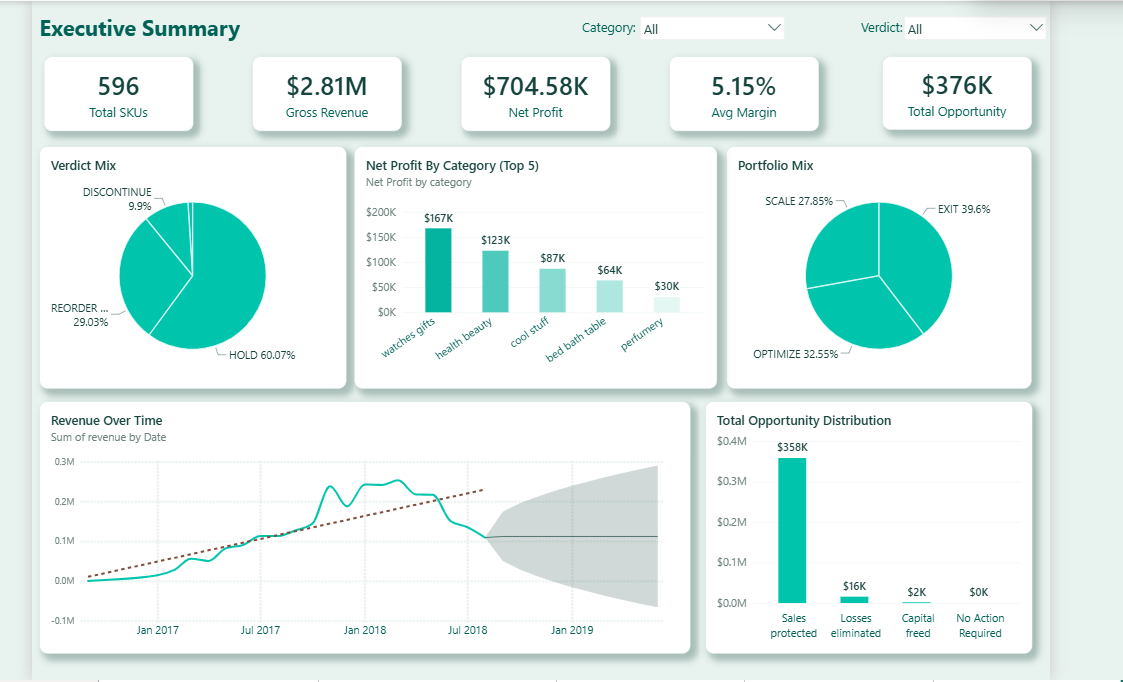

This screenshot's page, from the dashboard's own definition file:
{"tool":"powerbi","page":{"name":"Executive Summary","canvas":[1500,1000],"ordinal":0},"visuals":[{"type":"shape","box":[12,0,425.9,78],"z":0},{"type":"card","fields":{"Values":["Count(dim_product.product_id)"]},"box":[18.6,81,220,110],"z":1000},{"type":"card","fields":{"Values":["Measure.Gross Revenue"]},"box":[325.4,81,220,110],"z":2000},{"type":"card","fields":{"Values":["Measure.Net Profit"]},"box":[632.3,81,220,110],"z":3000},{"type":"card","fields":{"Values":["Measure.Avg Margin"]},"box":[939.1,81,220,110],"z":4000},{"type":"pieChart","title":"Verdict Mix","fields":{"Category":["decision_input.verdict"],"Y":["CountNonNull(decision_input.product_id)"]},"box":[10.3,213.3,451.8,356.5],"z":5000},{"type":"pieChart","title":"Portfolio Mix","fields":{"Y":["CountNonNull(decision_input.product_id)"],"Category":["decision_input.decision"]},"box":[1022.3,213.3,449.6,356.5],"z":6000},{"type":"columnChart","title":"Total Opportunity Distribution","fields":{"Category":["decision_input.Impact Type"],"Y":["Sum(decision_input.Impact $)"]},"box":[991.9,589.9,481.6,371.1],"z":7000},{"type":"card","fields":{"Values":["Sum(decision_input.Impact $)"]},"box":[1251.9,81,220,108.2],"z":8000},{"type":"lineChart","title":"Revenue Over Time","fields":{"Category":["dim_date.Date"],"Y":["Sum(monthly_sku_performance.revenue)"]},"box":[11,589.9,958.8,371.1],"z":9000},{"type":"columnChart","title":"Net Profit By Category (Top 5)","fields":{"Y":["Measure.Net Profit"],"Category":["dim_category.category"]},"box":[475.3,213.3,533.7,356.5],"z":10000},{"type":"slicer","fields":{"Values":["dim_category.category"]},"box":[890.3,17.7,223.1,77.3],"z":11000},{"type":"slicer","fields":{"Values":["decision_input.verdict"]},"box":[1279.6,18,219.9,78],"z":12000},{"type":"shape","box":[749.6,9.4,140,60],"z":13000},{"type":"shape","box":[1141.4,9.4,140,60],"z":14000}]}

Visuals, with their boxes on the page's 1500x1000 design canvas (x1, y1, x2, y2). These are canvas units, not pixel positions in the 1123x682 screenshot, which may show the page scaled, cropped or inside an application window:
shape: l=12, t=0, r=438, b=78
card - Count(dim_product.product_id): l=19, t=81, r=239, b=191
card - Measure.Gross Revenue: l=325, t=81, r=545, b=191
card - Measure.Net Profit: l=632, t=81, r=852, b=191
card - Measure.Avg Margin: l=939, t=81, r=1159, b=191
"Verdict Mix" pieChart: l=10, t=213, r=462, b=570
"Portfolio Mix" pieChart: l=1022, t=213, r=1472, b=570
"Total Opportunity Distribution" columnChart: l=992, t=590, r=1474, b=961
card - Sum(decision_input.Impact $): l=1252, t=81, r=1472, b=189
"Revenue Over Time" lineChart: l=11, t=590, r=970, b=961
"Net Profit By Category (Top 5)" columnChart: l=475, t=213, r=1009, b=570
slicer - dim_category.category: l=890, t=18, r=1113, b=95
slicer - decision_input.verdict: l=1280, t=18, r=1500, b=96
shape: l=750, t=9, r=890, b=69
shape: l=1141, t=9, r=1281, b=69
